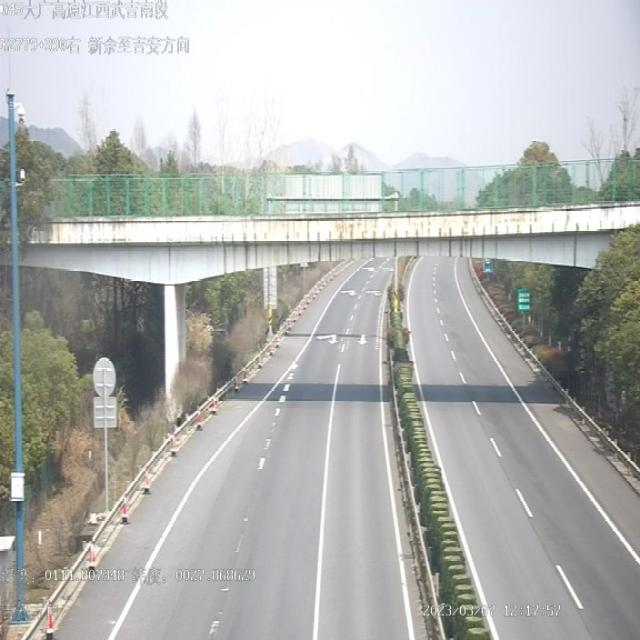cover: (342, 189, 471, 303)
